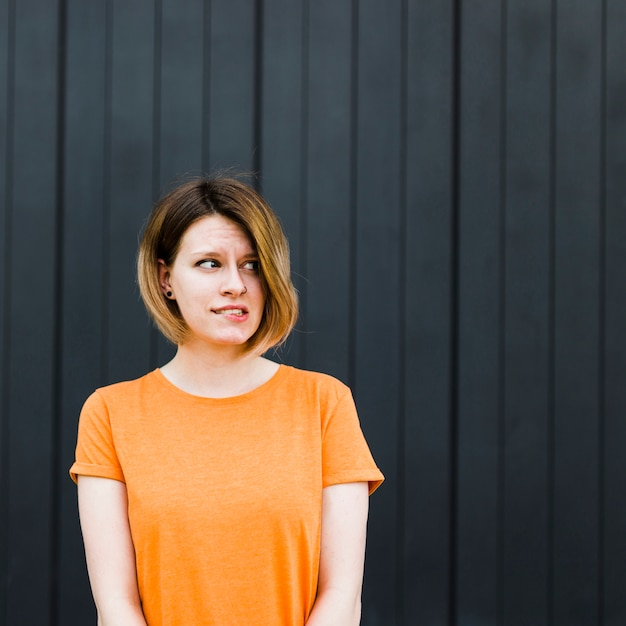teen: (127, 173, 323, 383)
